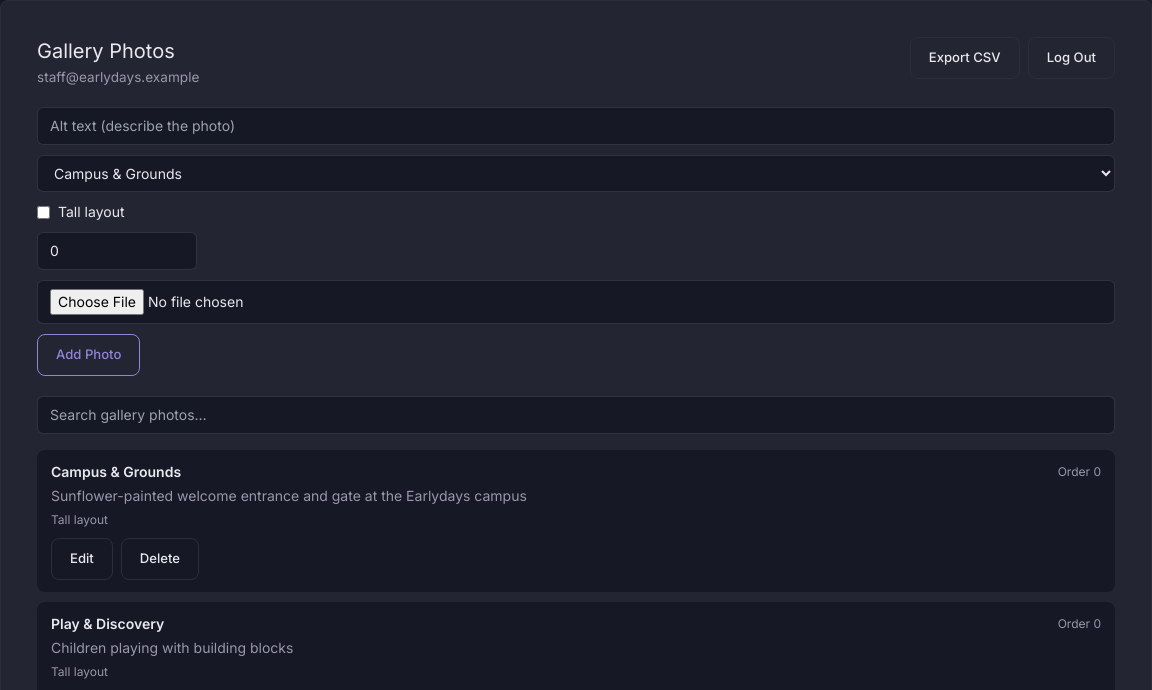
it: AdminGalleryPanel › filters the list by search query
The width and height of the screenshot is (1152, 690).
Expected: the text "Sunflower-painted welcome entrance and gate at the Earlydays campus" is shown, [51,487,527,504]
Expected: the text "Children playing with building blocks" is shown, [51,639,293,656]
Type "building blocks" into the field labelled "Search gallery photos" at [576, 415], box [37,396,1115,434]
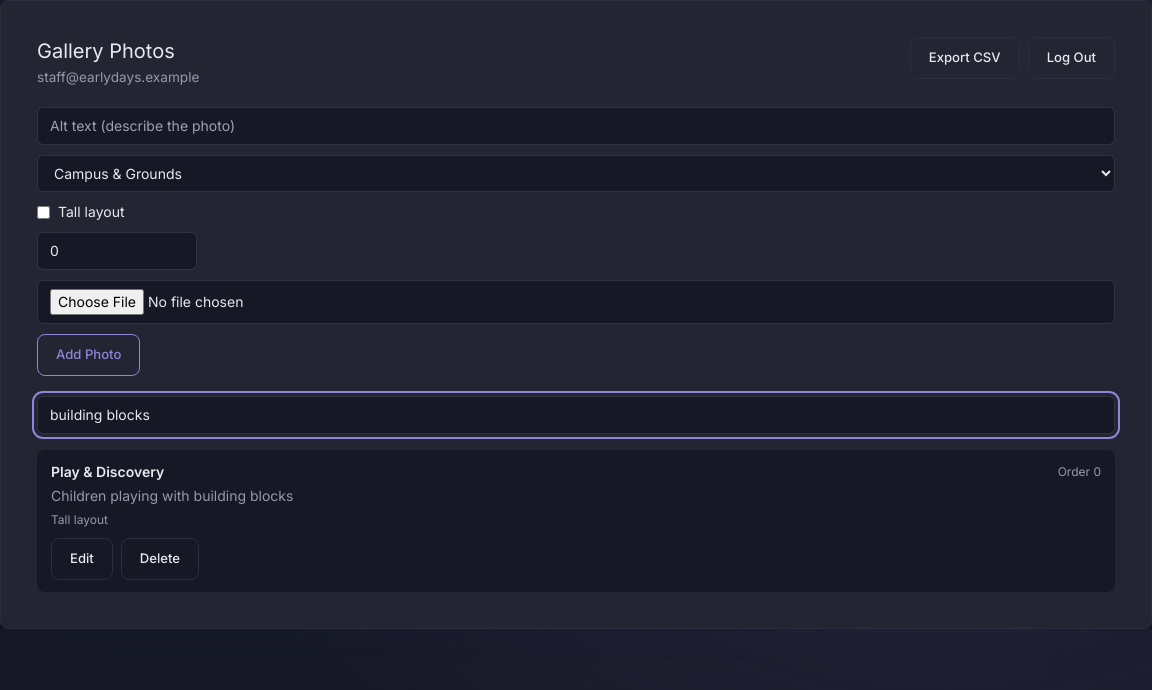
Expected: the text "Children playing with building blocks" is shown, [51,487,293,504]
Result: the text "Sunflower-painted welcome entrance and gate at the Earlydays campus" is gone
